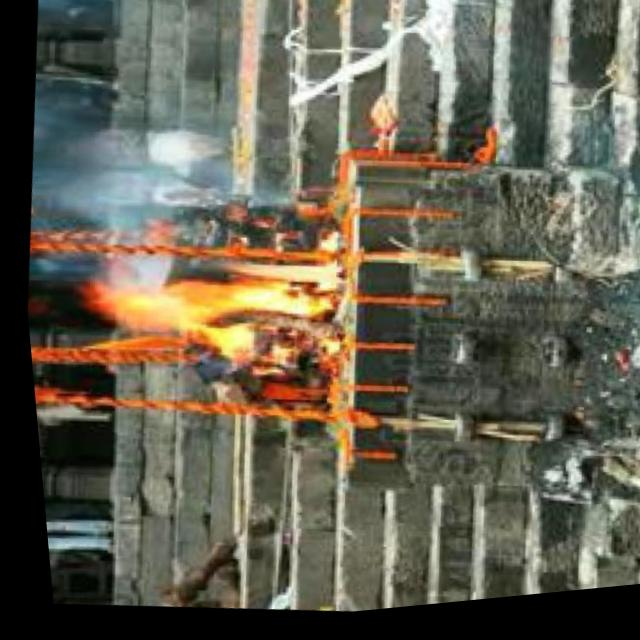Fire: (80, 232, 351, 390)
